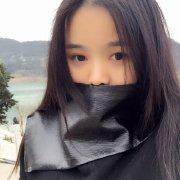WRONG: (60, 40, 139, 119)
